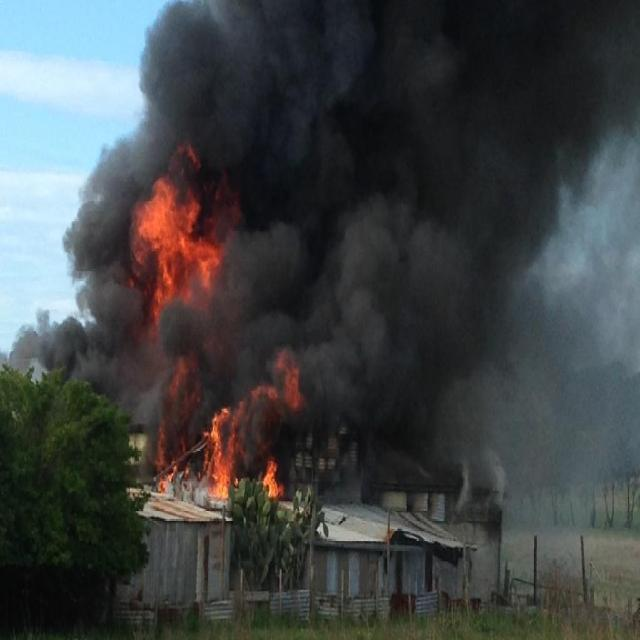Fire: (119, 138, 229, 333), (203, 369, 300, 497), (152, 414, 182, 490), (262, 453, 280, 498)
